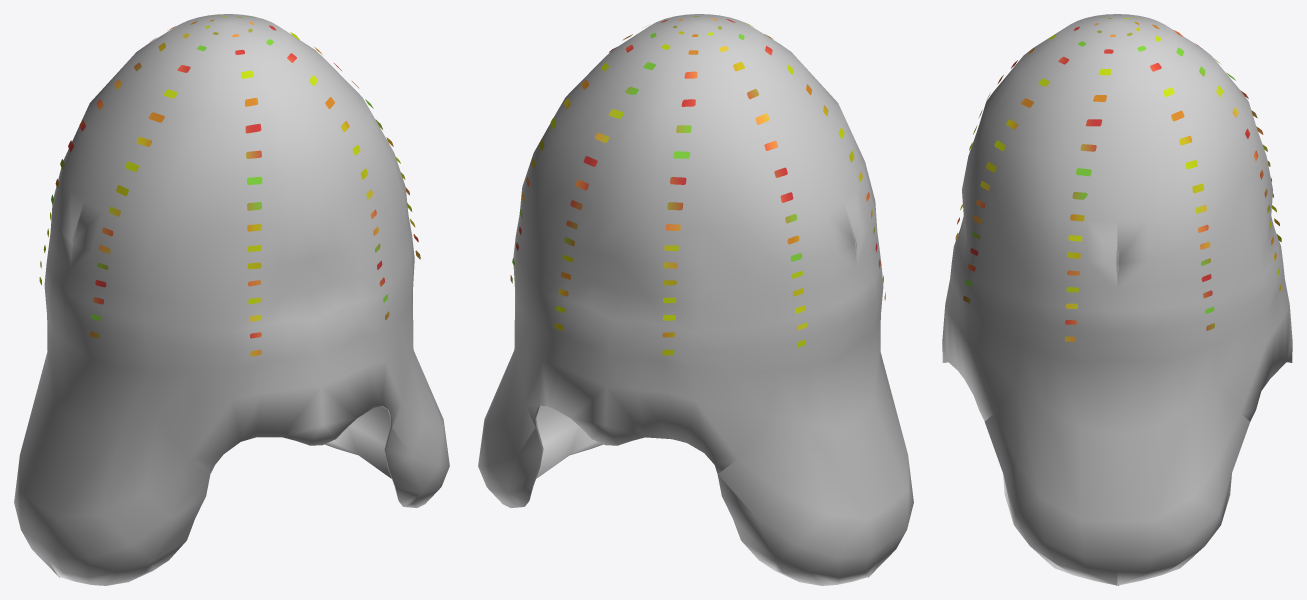
The model's file is bloodJelly.fbx.
3 views of the same model, side by side, from view 1: azimuth 30°, elevation 25°; view 2: azimuth 150°, elevation 25°; view 3: azimuth 270°, elevation 25° (orthographic). The views are drawn at different scales.
Parts seen in each view (by area): view 1: bloodJelly.005; view 2: bloodJelly.005; view 3: bloodJelly.005.
Boxes of the visible parts, x1=… form: bloodJelly.005: x1=14, y1=14, x2=449, y2=585; bloodJelly.005: x1=478, y1=14, x2=913, y2=585; bloodJelly.005: x1=942, y1=14, x2=1292, y2=585.
Bounding box in the file's own units: 0.8338 × 1.05 × 0.6902.
